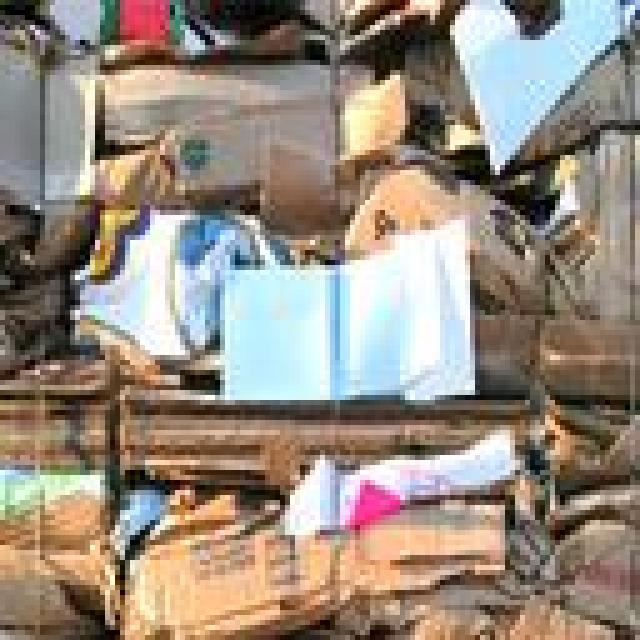cardboard: (0, 0, 635, 635), (110, 485, 510, 635), (90, 20, 370, 200), (215, 205, 470, 395), (105, 380, 525, 495), (65, 190, 305, 380), (435, 0, 635, 170), (390, 25, 635, 155), (340, 160, 545, 305), (275, 420, 520, 530), (0, 5, 100, 210), (0, 465, 115, 635), (545, 115, 635, 315), (325, 575, 610, 635), (0, 195, 95, 370), (470, 300, 635, 395), (505, 505, 635, 625), (0, 350, 115, 475), (95, 0, 395, 45), (250, 135, 340, 255), (520, 400, 635, 485), (330, 0, 440, 55), (540, 480, 635, 540)
